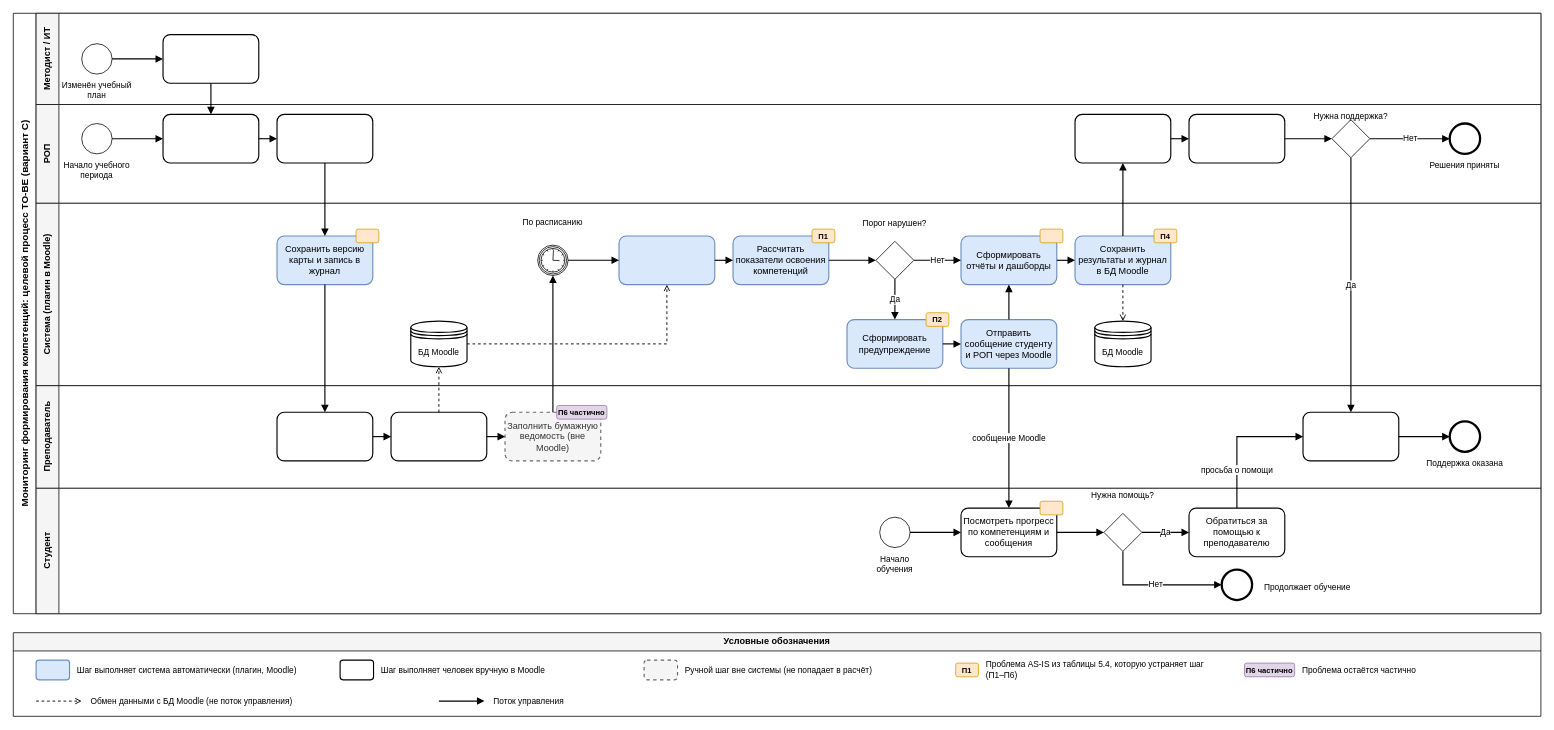
Image size: 1554x730. Some labels were removed from this diagram. The centre of each missing label's shape, as x and y in pixels:
Вести обучение и выставлять оценки в Moodle: the point at 438,436
Загрузить рамки компетенций ОП из CSV в Moodle: the point at 210,58
Задать пороги и правила расчёта: the point at 324,138
Оказать методическую поддержку студентам: the point at 1350,436
П3: the point at 1051,507
П5: the point at 1051,235
П6: the point at 367,235
Получить оценки и активности из Moodle: the point at 666,260
Принять управленческие решения: the point at 1236,138
Просмотреть отчёты и предупреждения: the point at 1122,138
Разметить компетенции в курсах Moodle: the point at 324,436
Сформировать или актуализировать карту компетенций: the point at 210,138
